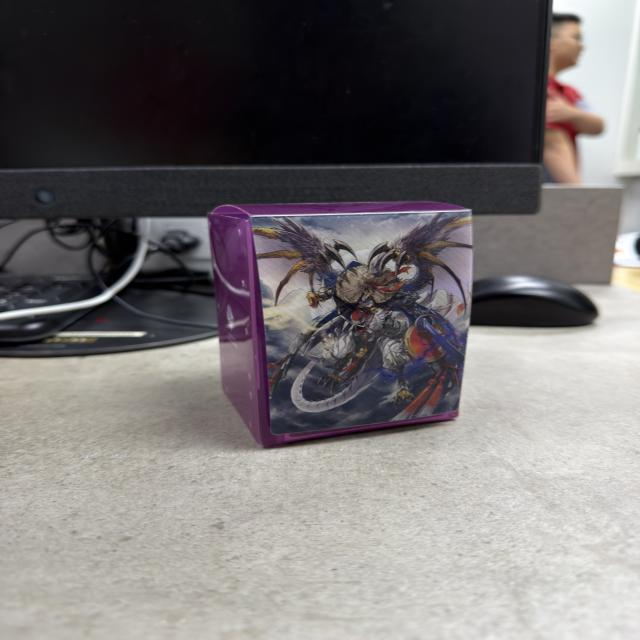box: (210, 198, 468, 444)
